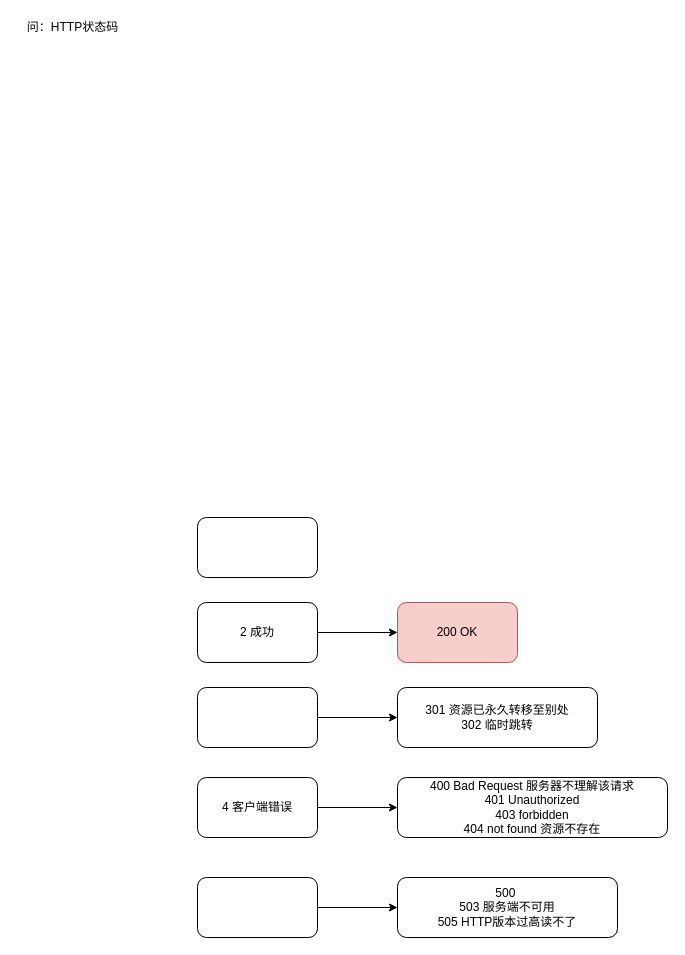
This 685x955 diagram has some shape labels left out. The box of each missing label's shape, as (x1, y1, x2, y2) in pixels:
1 等待进一步操作: (196, 516, 318, 578)
3 redirect: (196, 686, 318, 748)
5 服务端错误: (196, 876, 318, 938)
